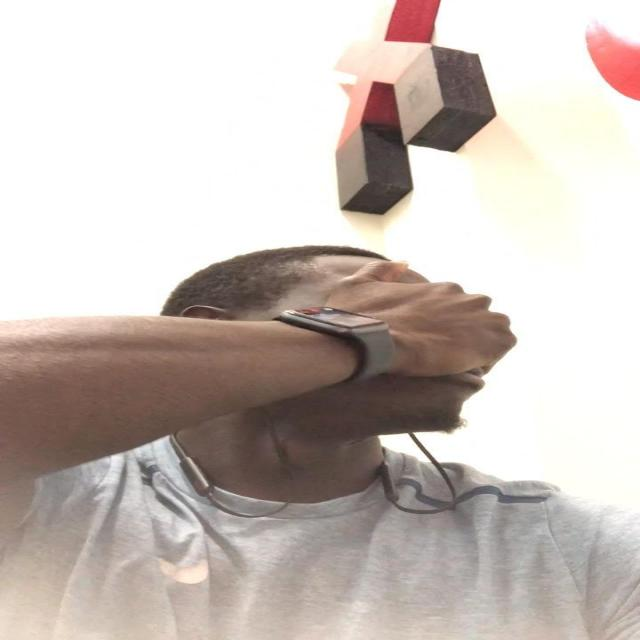face: (228, 260, 488, 434)
